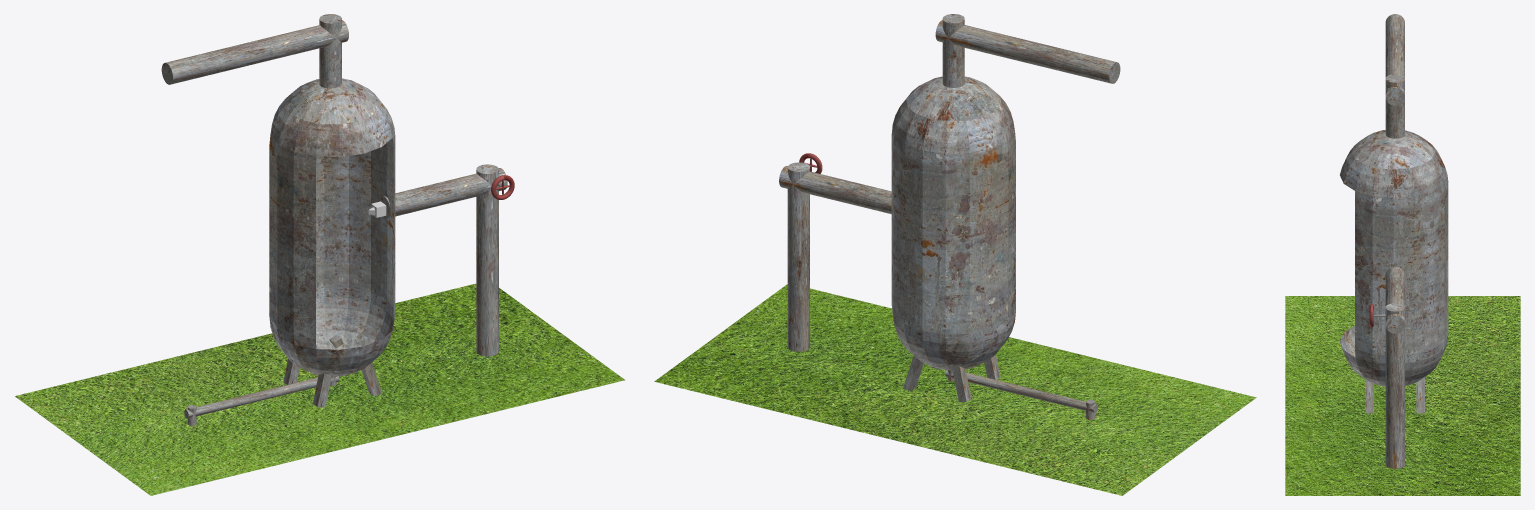
Rendered from TankNorm1.fbx.
3 renders of one model, left to right at view 1: azimuth 30°, elevation 25°; view 2: azimuth 150°, elevation 25°; view 3: azimuth 270°, elevation 25°, orthographic. The views are drawn at different scales.
Visible parts, largest first — view 1: Plane, Capsule, Cylinder.003, Cylinder.001, Cylinder, Cylinder.002, Cylinder.004; view 2: Plane, Capsule, Cylinder.001, Cylinder.003, Cylinder, Cylinder.002, Cylinder.004; view 3: Plane, Capsule, Cylinder.001, Cylinder.003, Cylinder, Cylinder.002, Cube.003, Cube.
Part boxes in pixels (box(x1,y1,x2,y2)): Plane: box(15, 283, 625, 495); Capsule: box(269, 78, 395, 376); Cylinder.003: box(161, 20, 348, 84); Cylinder.001: box(476, 164, 498, 356); Cylinder: box(381, 168, 507, 218); Cylinder.002: box(319, 14, 341, 88); Cylinder.004: box(184, 376, 339, 418); Plane: box(654, 284, 1256, 495); Capsule: box(891, 76, 1015, 370); Cylinder.001: box(787, 162, 809, 351); Cylinder.003: box(935, 20, 1120, 83); Cylinder: box(779, 166, 891, 213); Cylinder.002: box(942, 14, 964, 87); Cylinder.004: box(945, 370, 1098, 413); Plane: box(1285, 296, 1520, 495); Capsule: box(1339, 130, 1448, 386); Cylinder.001: box(1385, 303, 1404, 468); Cylinder.003: box(1385, 14, 1404, 105); Cylinder: box(1385, 267, 1404, 333); Cylinder.002: box(1385, 74, 1404, 138); Cube.003: box(1416, 377, 1424, 413); Cube: box(1365, 379, 1373, 413).
Bounding box in the file's own units: 863 × 650 × 429.
Materials: 18 (17 with a texture image).
